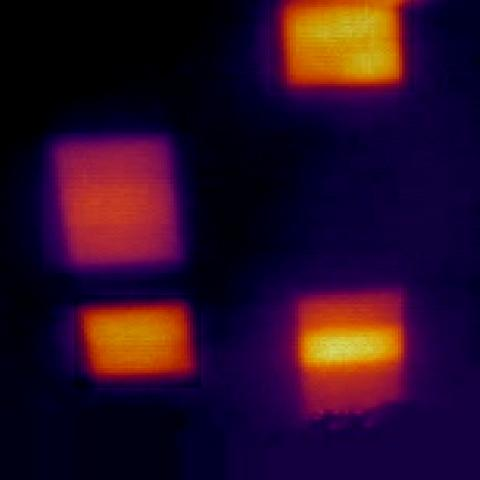fault: (44, 133, 196, 273), (284, 282, 418, 418), (270, 0, 414, 92), (74, 295, 201, 388)
